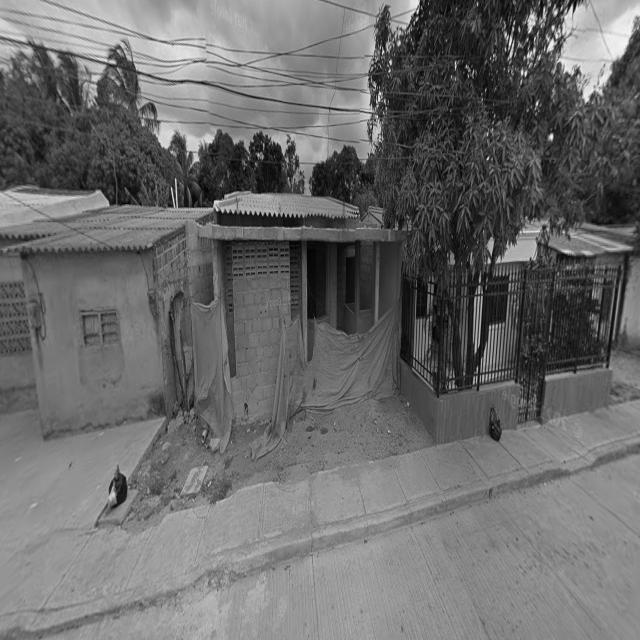Fachada: (191, 192, 402, 461), (9, 206, 213, 434), (401, 227, 541, 393), (521, 237, 622, 373)
